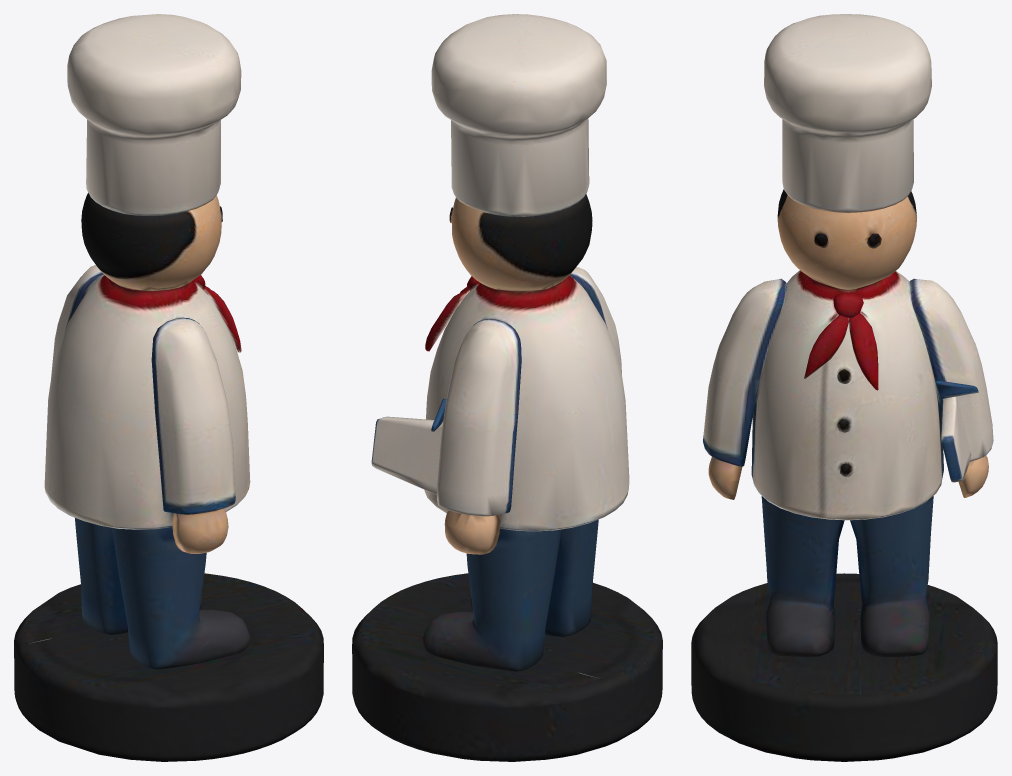
Rendered from person_cook.glb.
The picture shows the model from 3 angles, left to right: view 1: azimuth 30°, elevation 25°; view 2: azimuth 150°, elevation 25°; view 3: azimuth 270°, elevation 25°; orthographic projection.
Parts seen in each view (by area): view 1: tripo_node_8618ef00-137c-424f-b14d-c614722f3ab5; view 2: tripo_node_8618ef00-137c-424f-b14d-c614722f3ab5; view 3: tripo_node_8618ef00-137c-424f-b14d-c614722f3ab5.
Part boxes in pixels (x1=…): tripo_node_8618ef00-137c-424f-b14d-c614722f3ab5: x1=14, y1=14, x2=323, y2=761; tripo_node_8618ef00-137c-424f-b14d-c614722f3ab5: x1=352, y1=14, x2=662, y2=761; tripo_node_8618ef00-137c-424f-b14d-c614722f3ab5: x1=691, y1=14, x2=997, y2=761.
Bounding box in the file's own units: 0.4233 × 0.9995 × 0.4233.
1 material, 1 textured.
